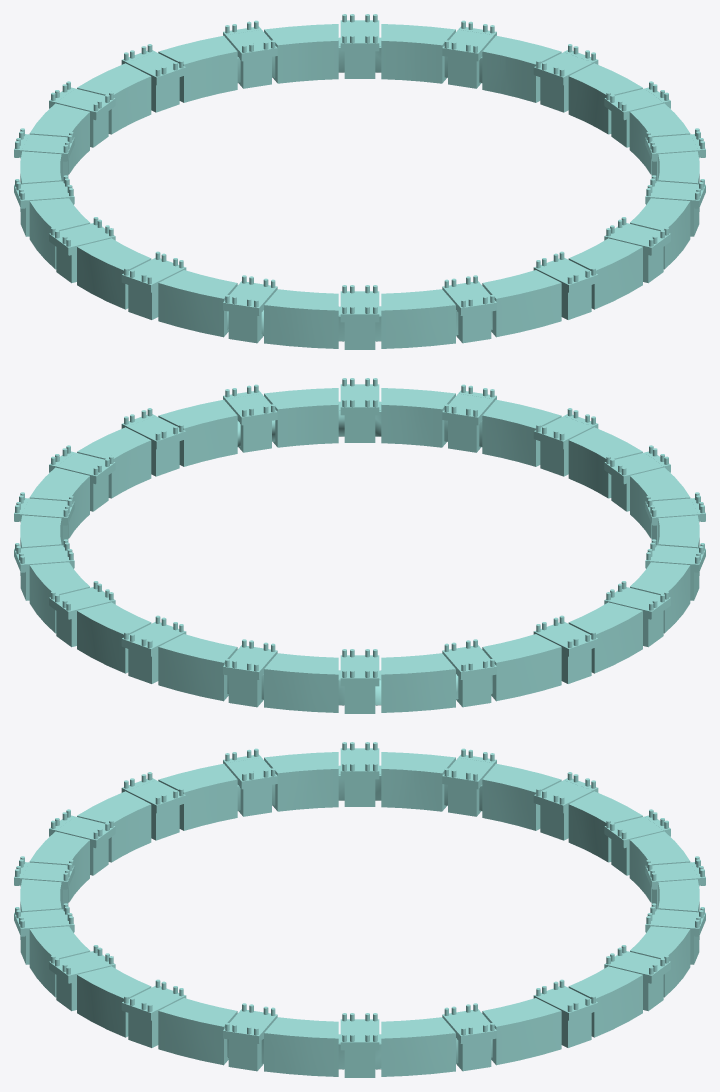
3 renders of one model, top to bottom at view 1: azimuth 30°, elevation 25°; view 2: azimuth 150°, elevation 25°; view 3: azimuth 270°, elevation 25°, orthographic.
Parts seen in each view (by area): view 1: ITER_MESH__pf2; view 2: ITER_MESH__pf2; view 3: ITER_MESH__pf2.
Boxes of the visible parts, <box> form: ITER_MESH__pf2: <box>14,14,705,349</box>; ITER_MESH__pf2: <box>14,378,705,713</box>; ITER_MESH__pf2: <box>14,742,705,1077</box>.
Size of the model in its own units: 18.15 by 1.29 by 18.05.
